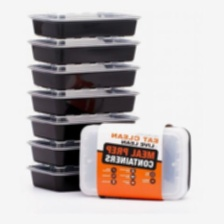plastic_box: (20, 4, 147, 198), (73, 114, 200, 206)
